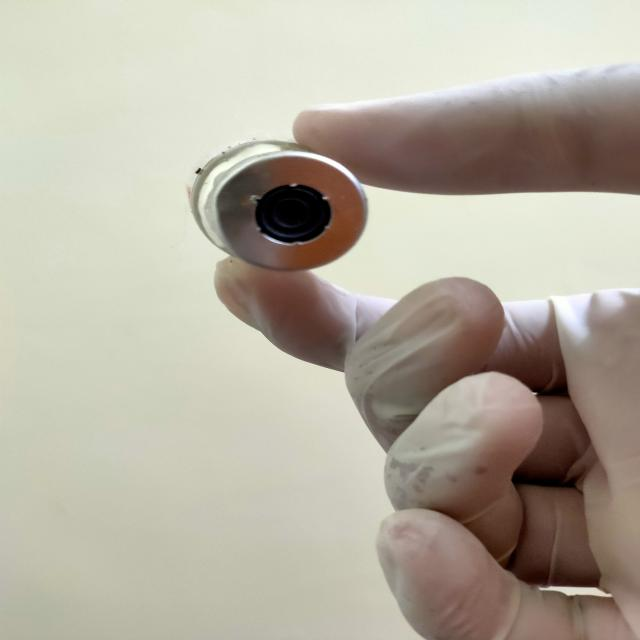B3: (195, 136, 359, 272)
